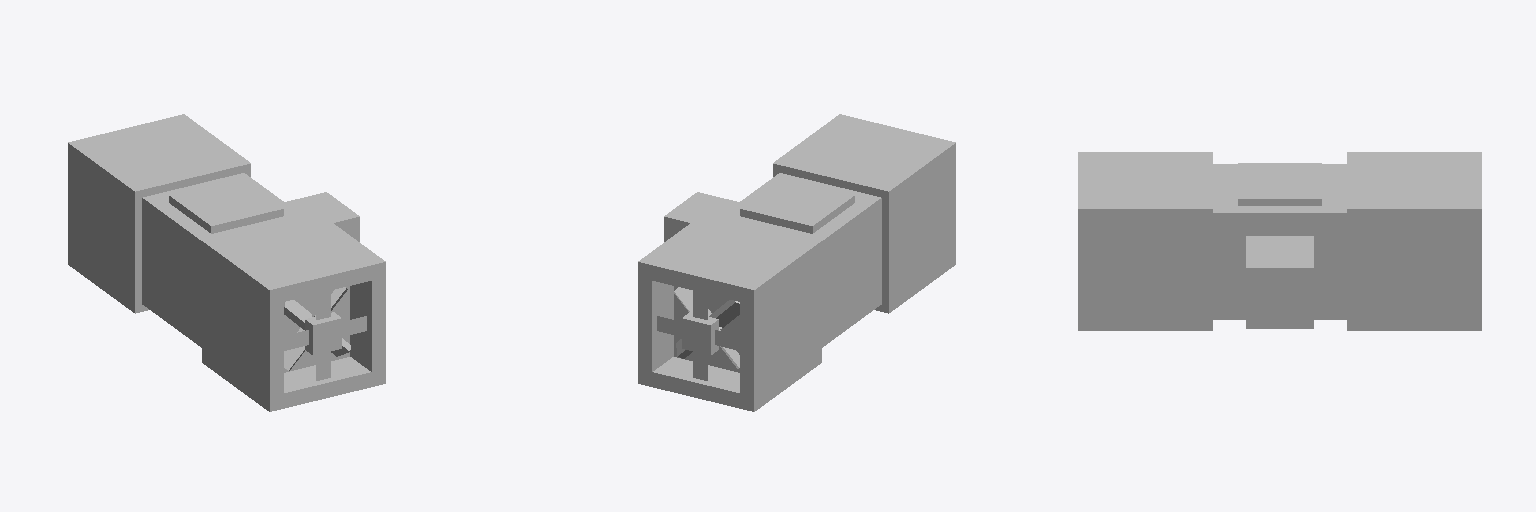
Rendered from coke_oven_preheater.obj.
The picture shows the model from 3 angles: view 1: azimuth 30°, elevation 25°; view 2: azimuth 150°, elevation 25°; view 3: azimuth 270°, elevation 25°; orthographic projection.
Parts seen in each view (by area): view 1: base, fan; view 2: base, fan; view 3: base.
Part boxes in pixels (x1,y1,x2,y2): base: (68,114,385,411); fan: (284,287,350,370); base: (638,114,955,411); fan: (673,287,739,368); base: (1078,152,1481,330).
Bounding box in the file's own units: 1.5 × 1 × 3.